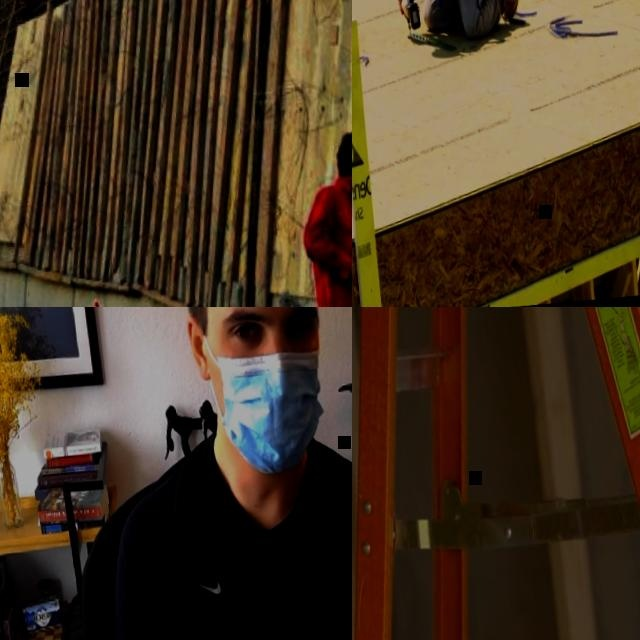Mask: (202, 321, 330, 477)
NO-Hardhat: (334, 125, 352, 179)
NO-Mask: (346, 172, 352, 196)
NO-Safety Vest: (158, 424, 352, 640), (304, 186, 352, 307)
Person: (64, 307, 352, 640), (292, 120, 352, 307)
